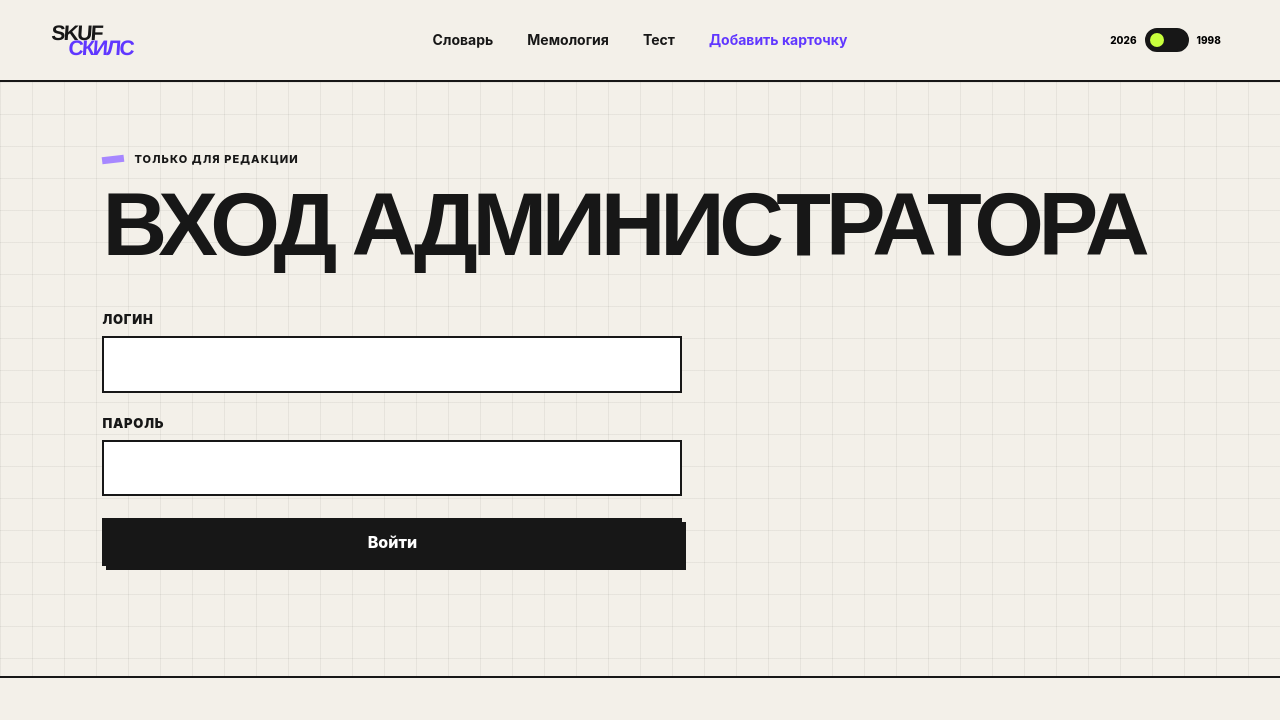
Test case: administrator flow › shows a generic login error and never stores the password
This screenshot has width=1280, height=720.
Type "admin@example.test" into the field labelled "Логин" at (392, 365), box [102,336,682,393]
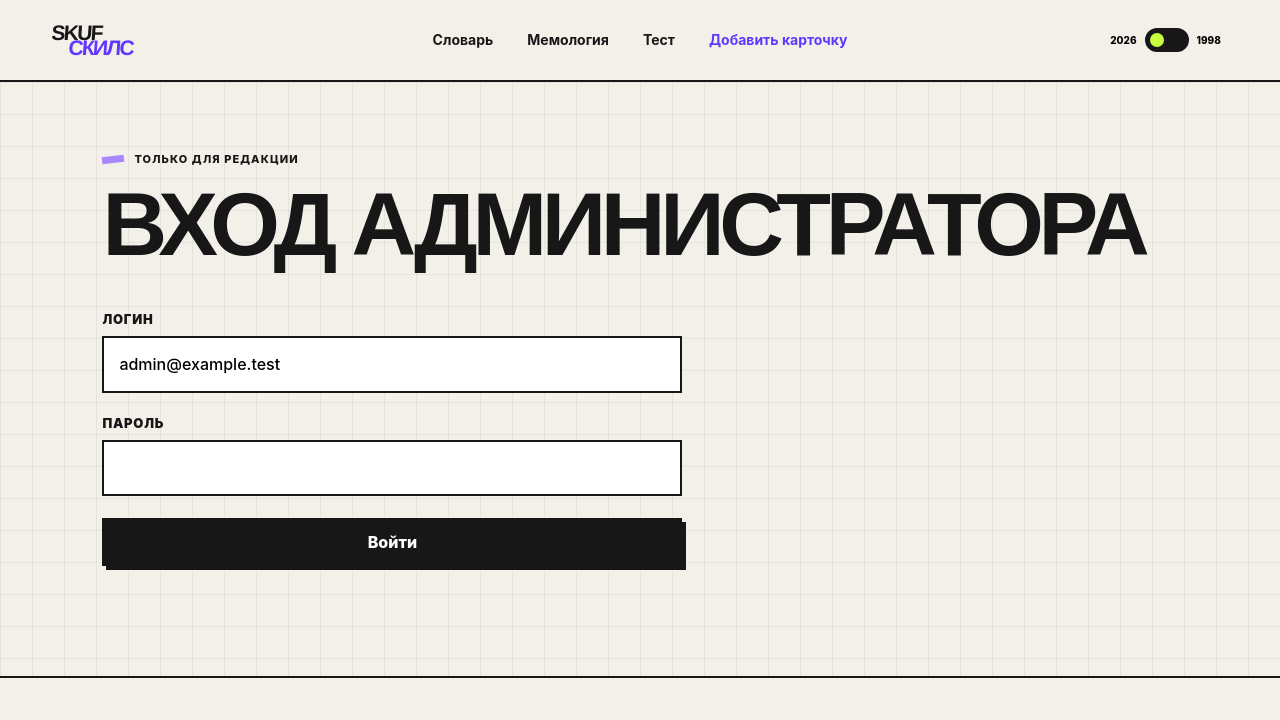
Type "very secret" into the password field labelled "Пароль" at (392, 468), box [102,440,682,496]
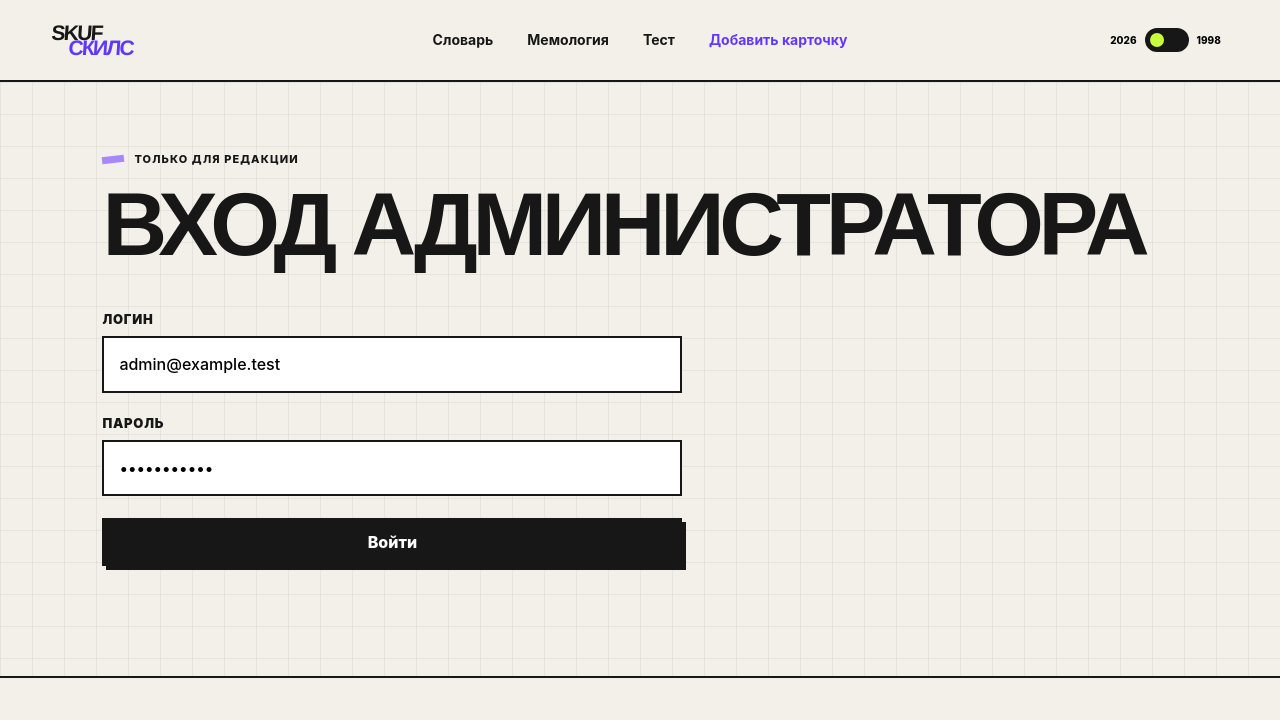
Click the button "Войти" at (392, 542), box [102,518,682,566]
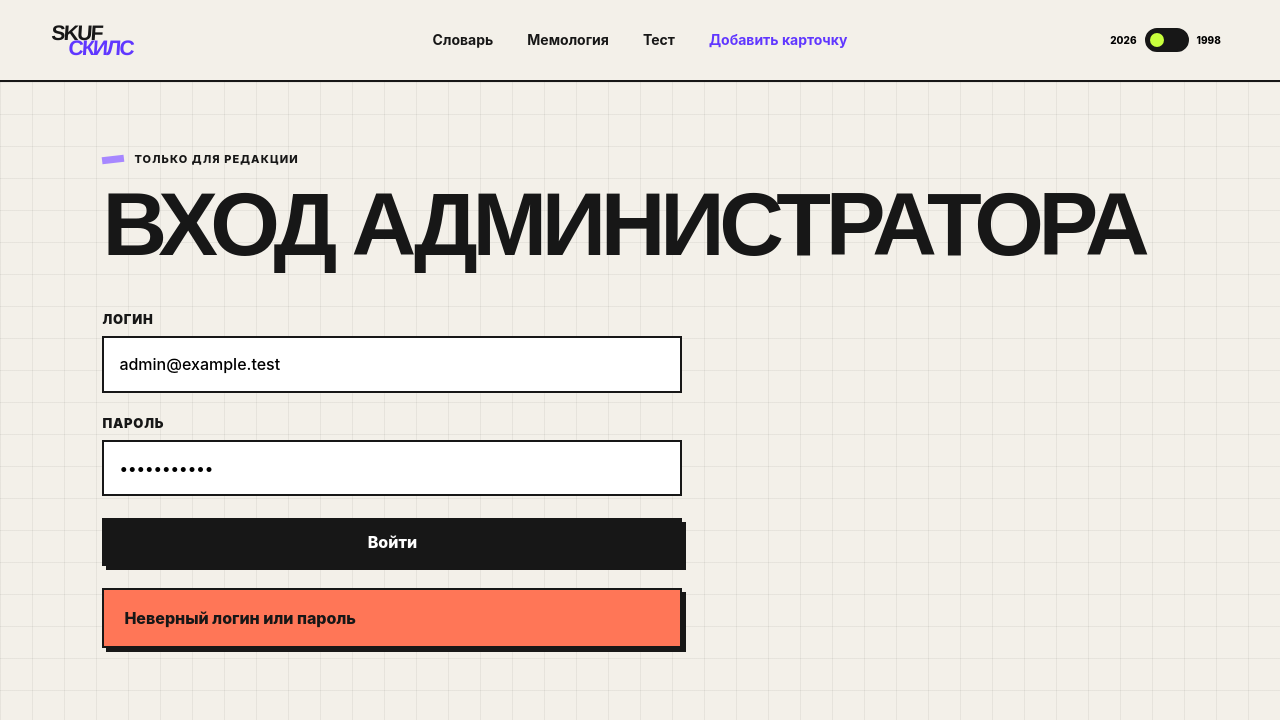
Now the message reads "Неверный логин или пароль", box [124,608,356,628]
